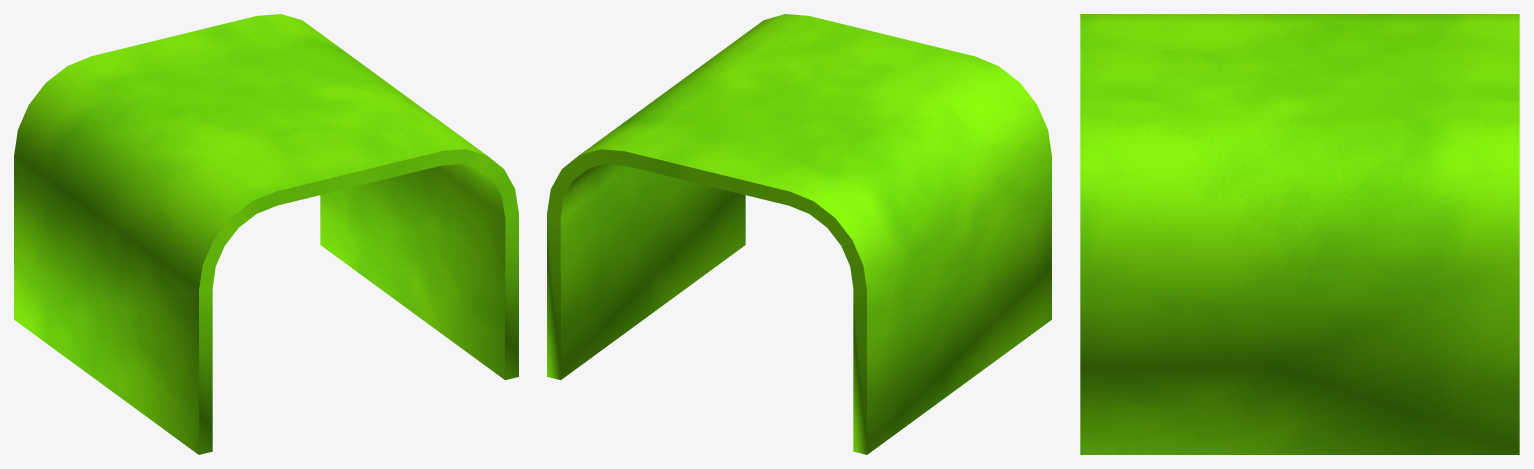
Rendered from chair_2_l.fbx.
3 renders of one model, left to right at view 1: azimuth 30°, elevation 25°; view 2: azimuth 150°, elevation 25°; view 3: azimuth 270°, elevation 25°, orthographic. The views are drawn at different scales.
Parts seen in each view (by area): view 1: chair_2_l; view 2: chair_2_l; view 3: chair_2_l.
Part boxes in pixels (x1,y1,x2,y2): chair_2_l: (14,14,518,454); chair_2_l: (547,14,1051,454); chair_2_l: (1080,14,1519,454).
Size of the model in its own units: 0.6961 by 0.5083 by 0.6961.
